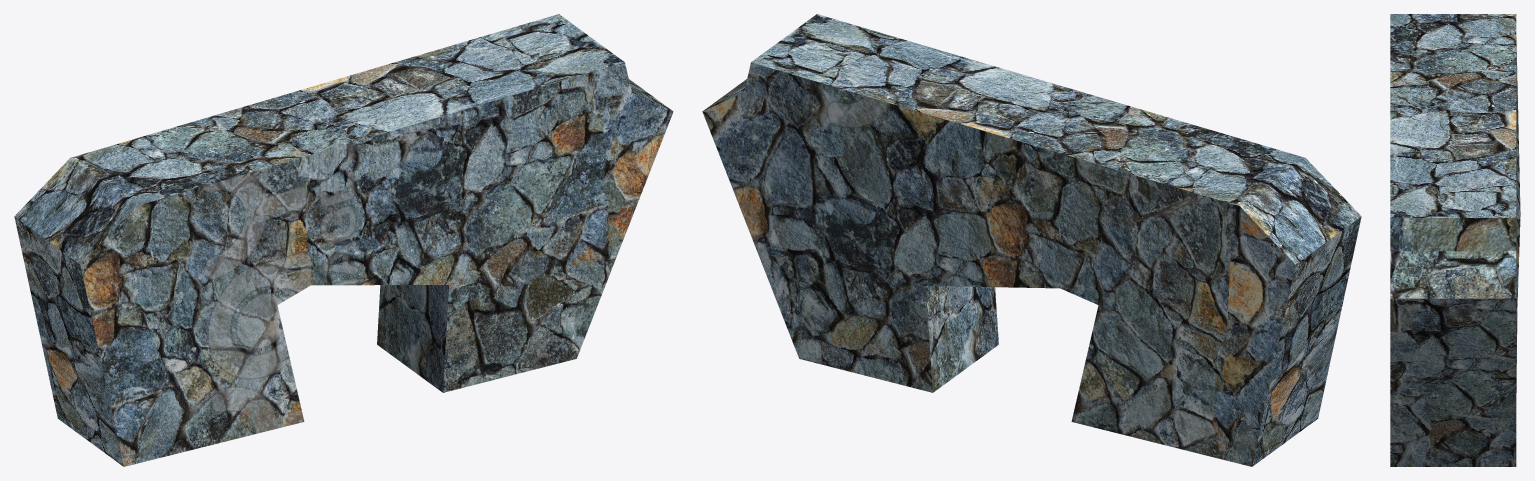
File: wall_hard_center.fbx
The picture shows the model from 3 angles, left to right: view 1: azimuth 30°, elevation 25°; view 2: azimuth 150°, elevation 25°; view 3: azimuth 270°, elevation 25°; orthographic projection. The views are drawn at different scales.
Parts seen in each view (by area): view 1: Circle; view 2: Circle; view 3: Circle.
Part boxes in pixels (left/top/right/bottom): Circle: left=14, top=14, right=673, bottom=466; Circle: left=702, top=14, right=1361, bottom=466; Circle: left=1390, top=14, right=1520, bottom=466.
Bounding box in the file's own units: 7.78 × 3.59 × 1.55.
